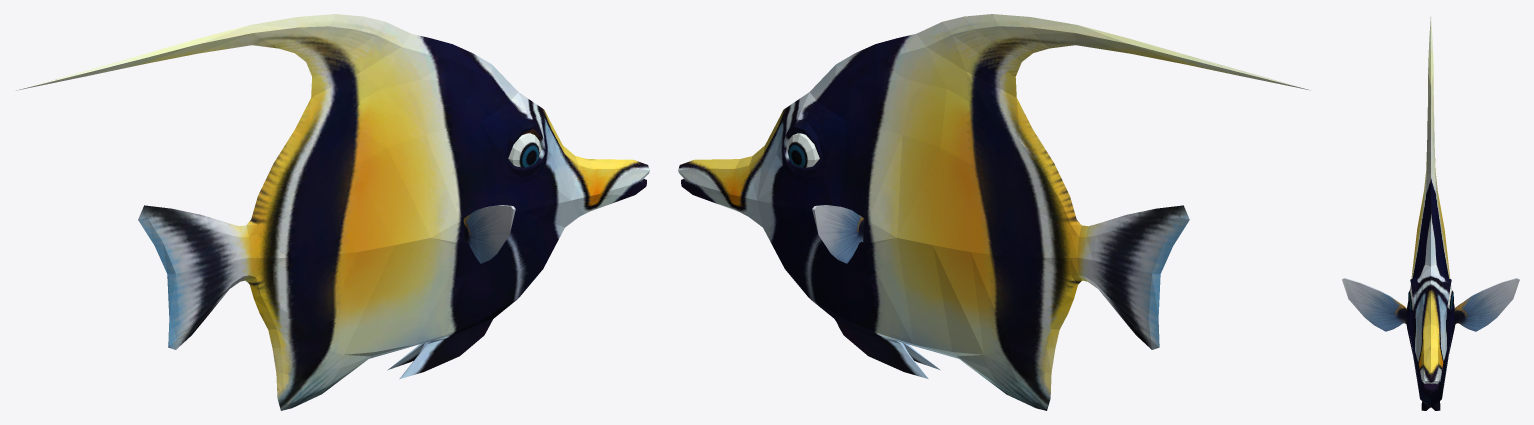
Rendered from fish3.fbx.
The picture shows the model from 3 angles, left to right: view 1: azimuth 30°, elevation 25°; view 2: azimuth 150°, elevation 25°; view 3: azimuth 270°, elevation 25°; orthographic projection. The views are drawn at different scales.
Visible parts, largest first — view 1: node_id27; view 2: node_id27; view 3: node_id27.
Boxes of the visible parts, x1=… form: node_id27: x1=16, y1=14, x2=649, y2=410; node_id27: x1=678, y1=14, x2=1311, y2=410; node_id27: x1=1342, y1=16, x2=1519, y2=410.
Bounding box in the file's own units: 0.512 × 0.3036 × 0.1823.
Materials: 1 (1 with a texture image).
